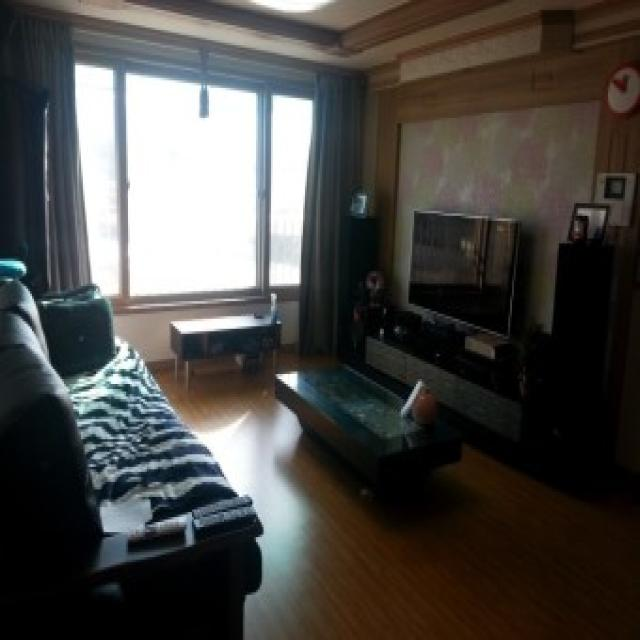Sofa: (5, 274, 253, 625)
Table: (272, 357, 463, 504)
tv: (410, 210, 520, 336)
window: (32, 32, 347, 281)
